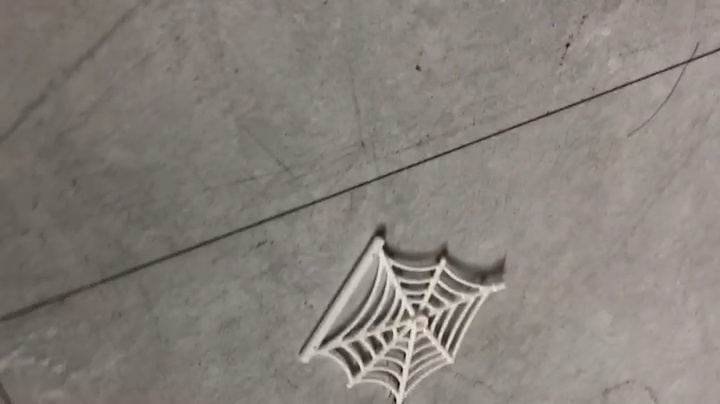web: (297, 223, 508, 404)
